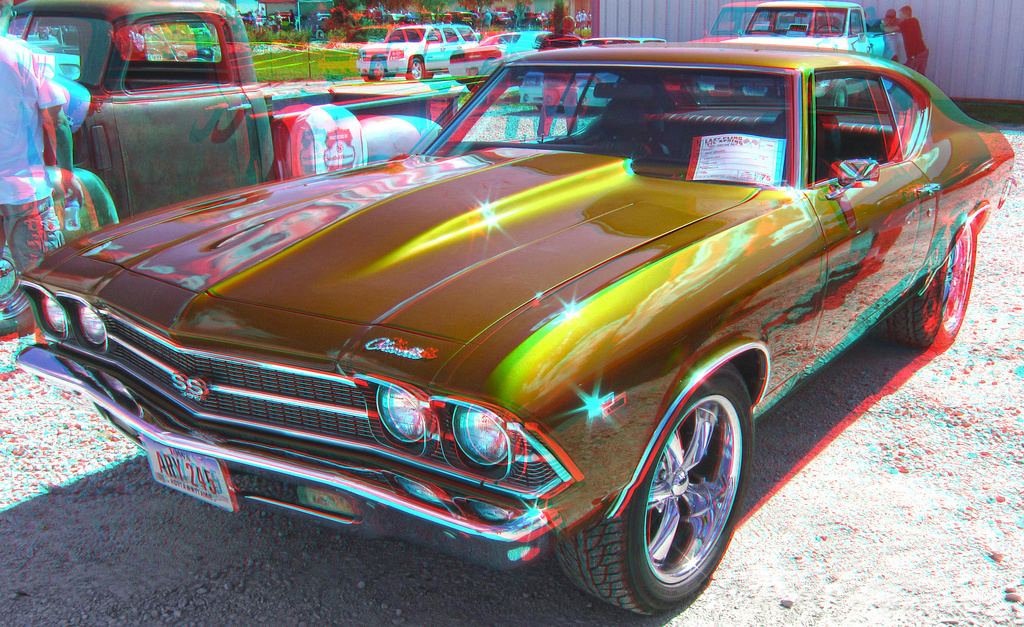Car: (0, 0, 1011, 619)
